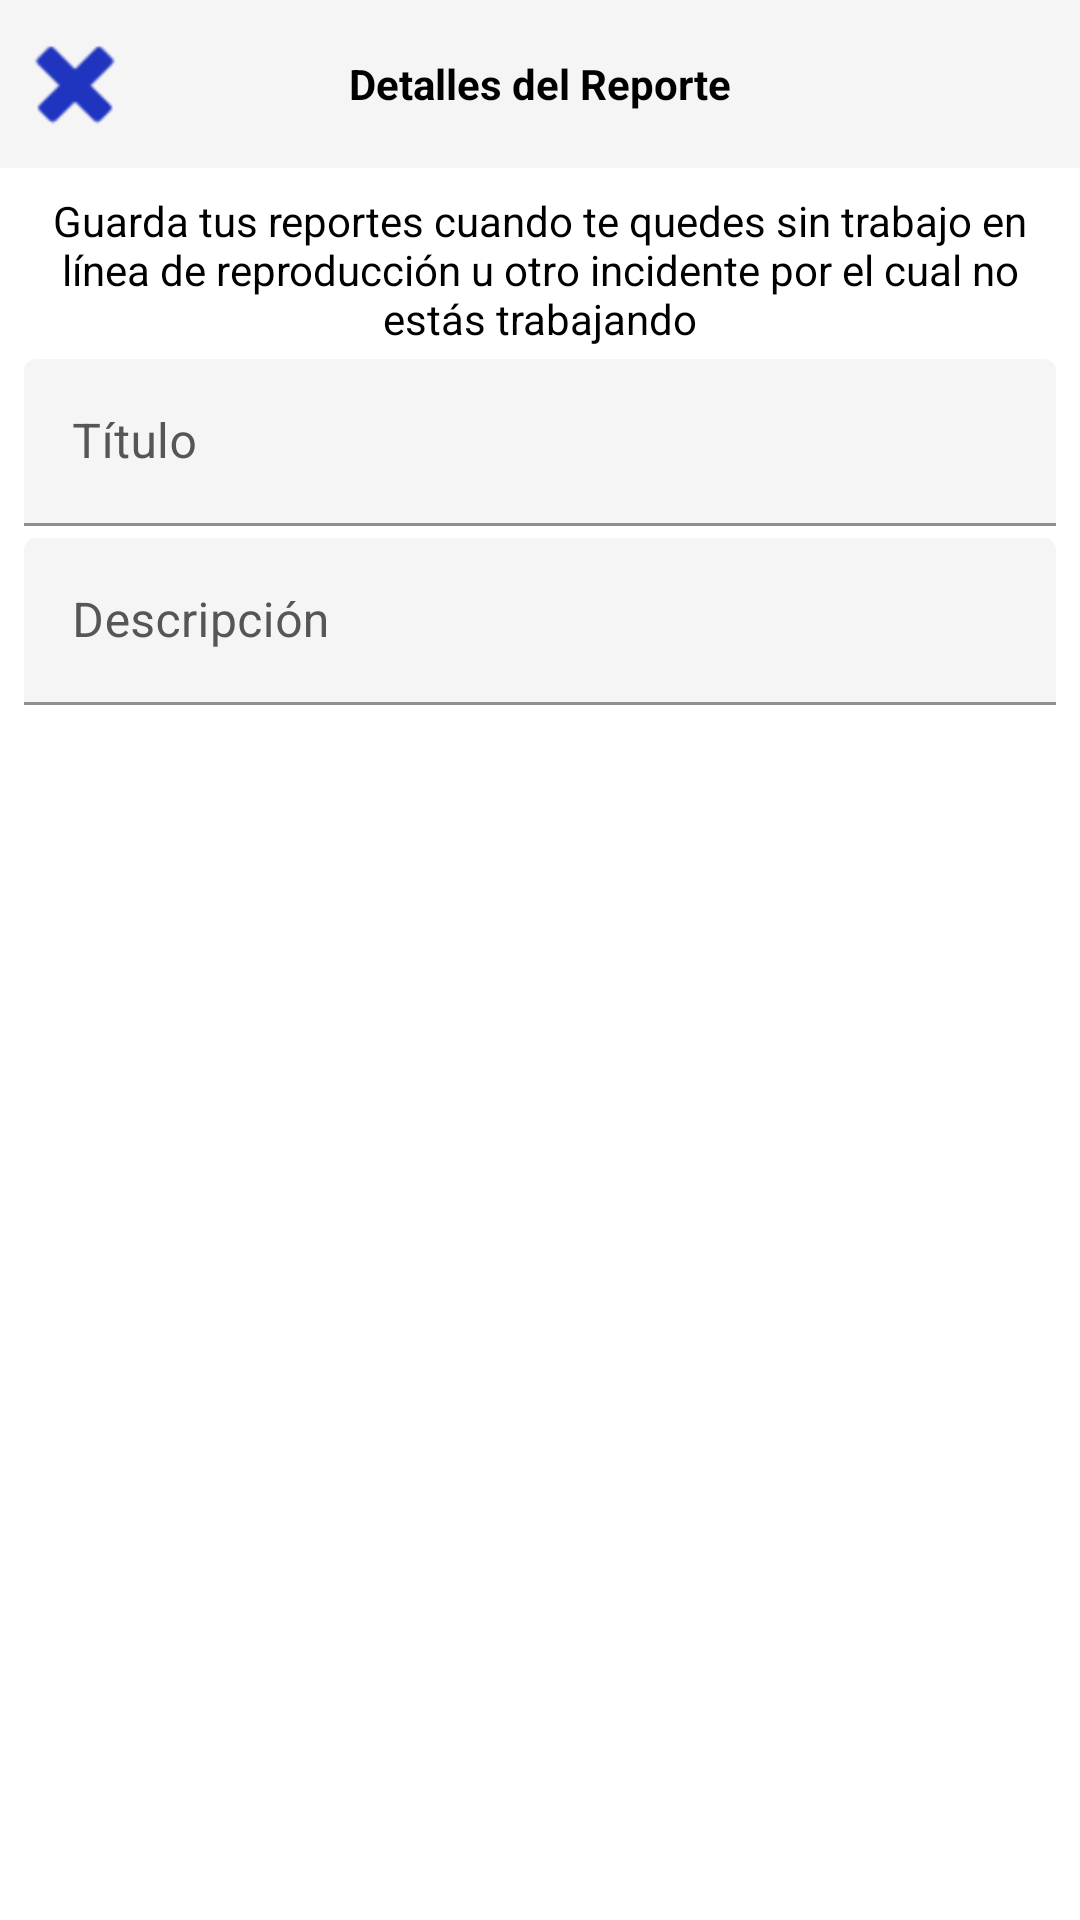

Screen size 1080w x 1920h. Icon name, then its box in pixels as bbox=[x1, y1, x2, y2]:
delete: bbox=[35, 46, 115, 124]
